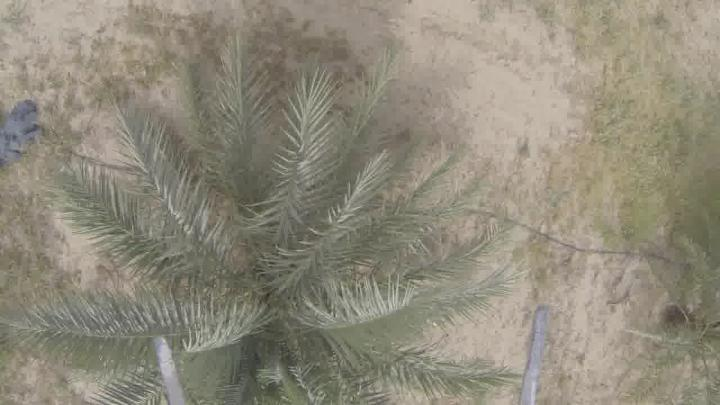Date-Palm-Crown: (115, 153, 387, 405), (654, 242, 720, 396)
